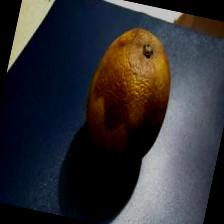Orange Rotten: (65, 11, 190, 186)
